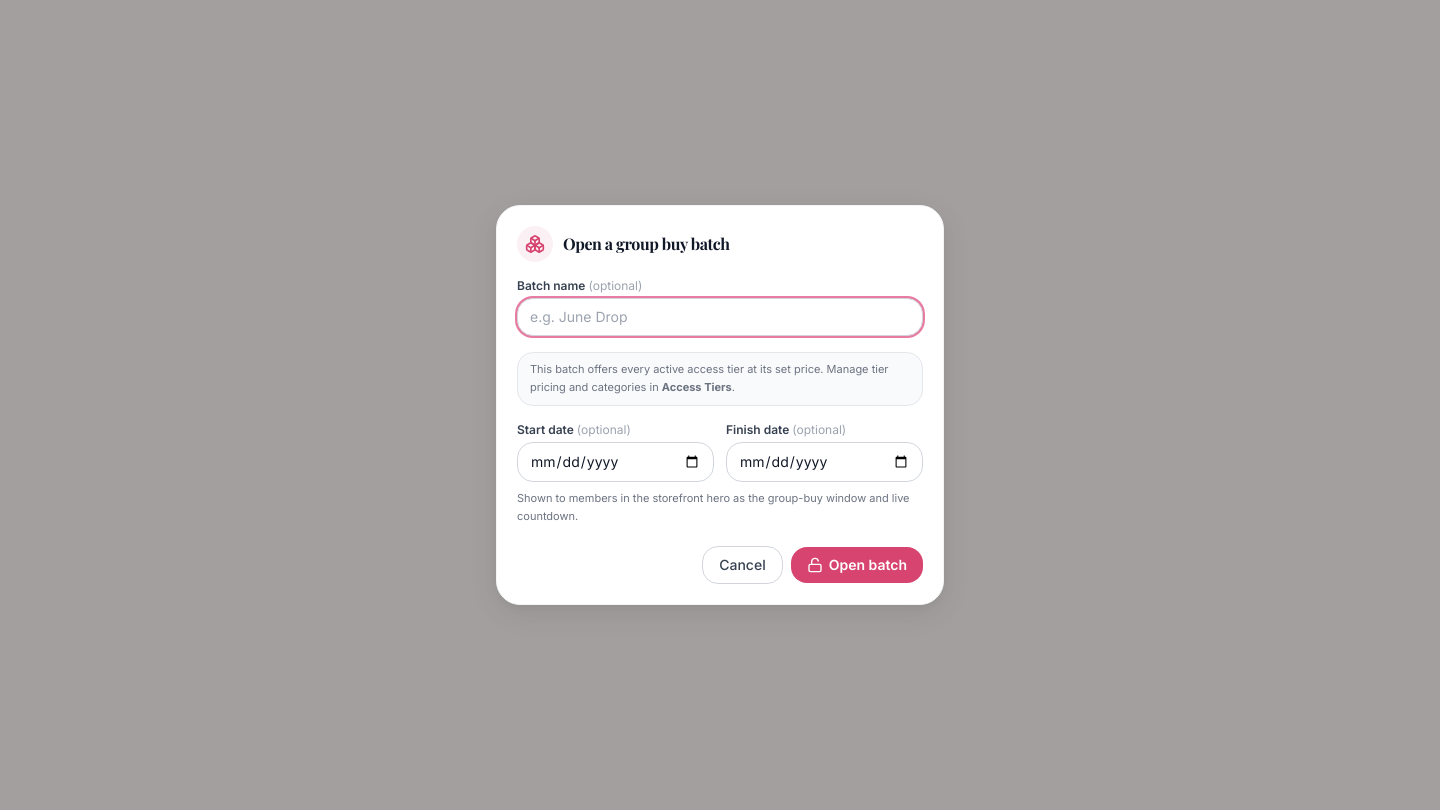
OpenBatchModal › blocks submit when the finish date is not after the start date
The width and height of the screenshot is (1440, 810).
Type "2026-07-05" into the date field labelled "Start date (optional)" at (616, 462), box 517,442 -> 714,482
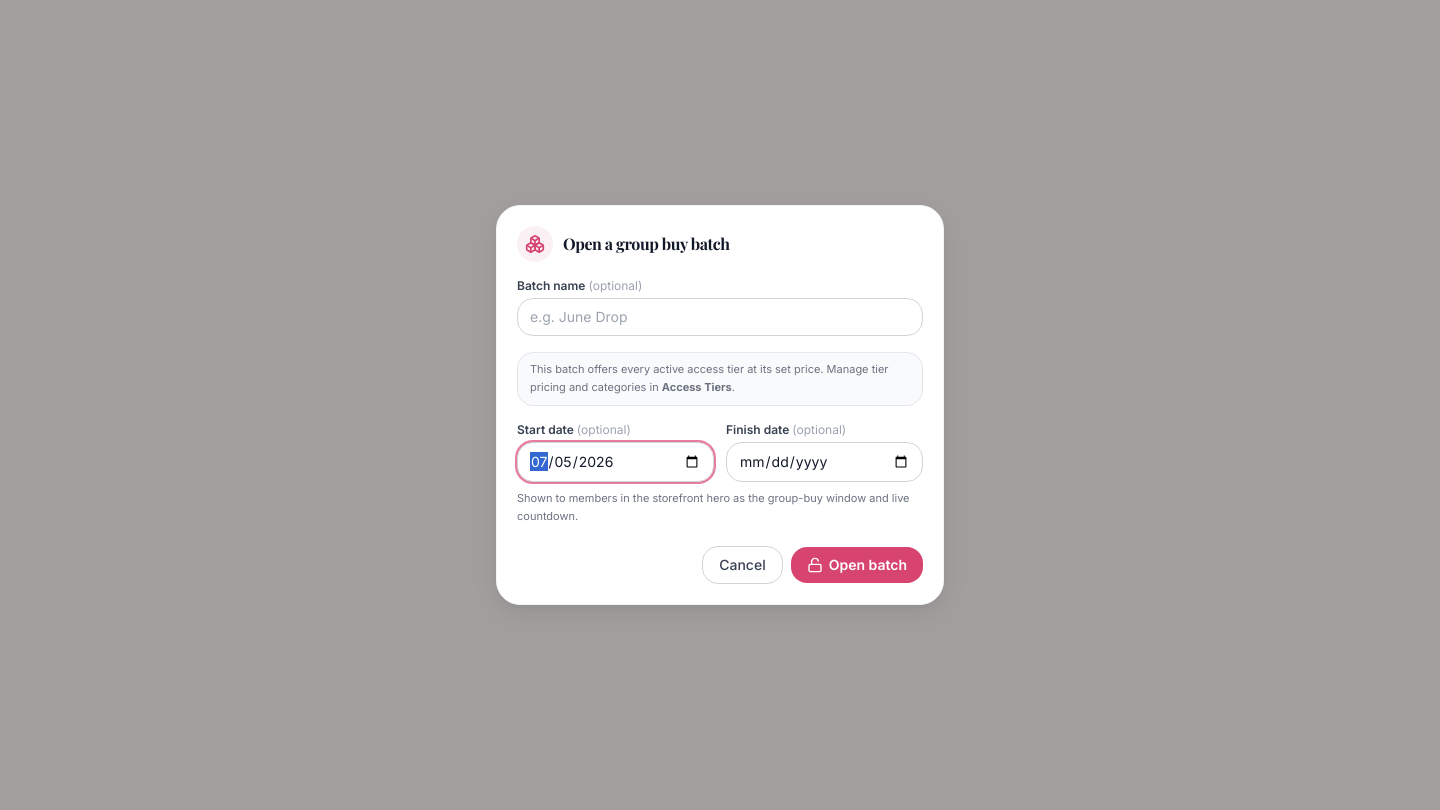
Type "2026-06-22" into the date field labelled "Finish date (optional)" at (824, 462), box 726,442 -> 923,482
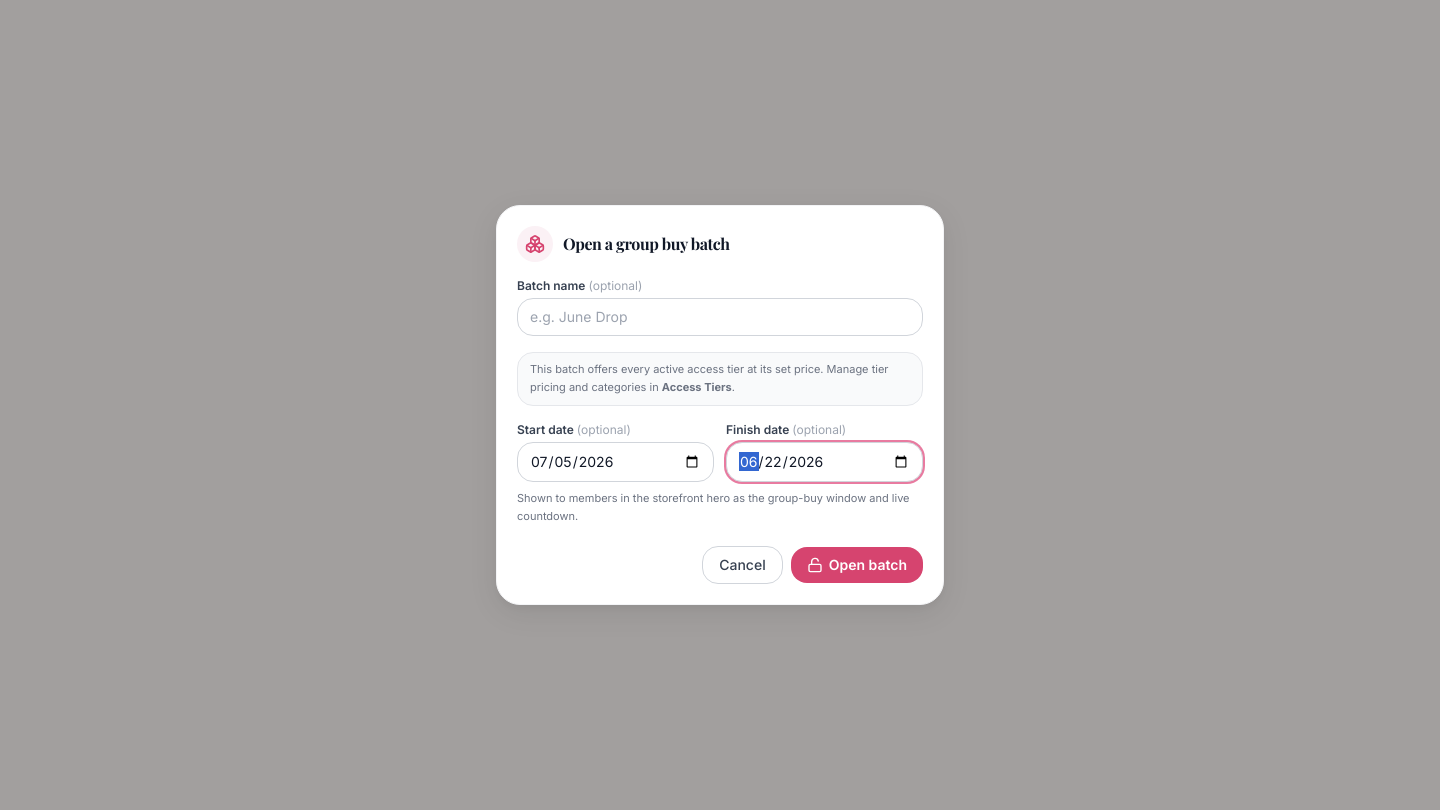
Click the button "Open batch" at (857, 565), box 791,547 -> 923,583
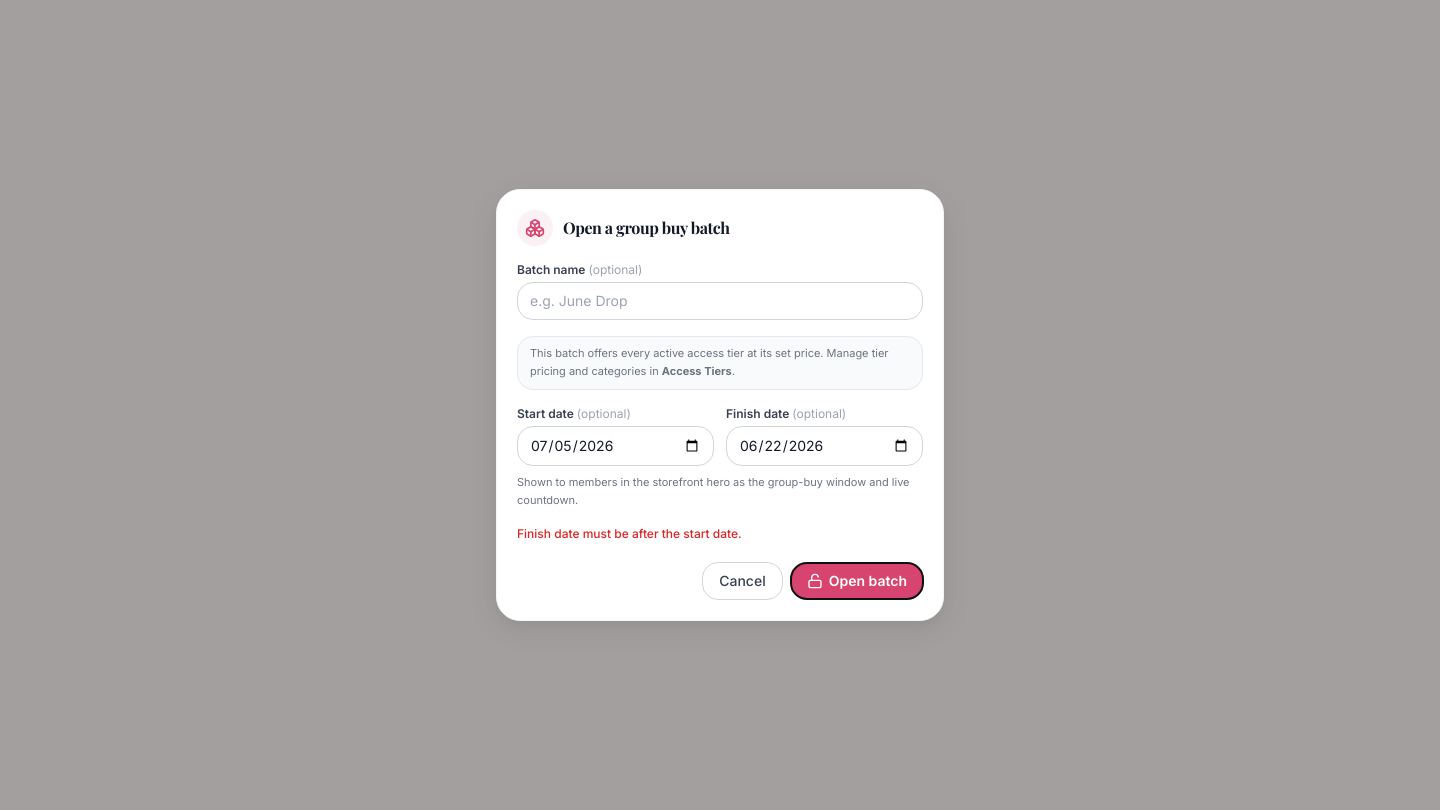
Expected: the text "Finish date must be after the start date." is shown, 517,526 -> 742,541
